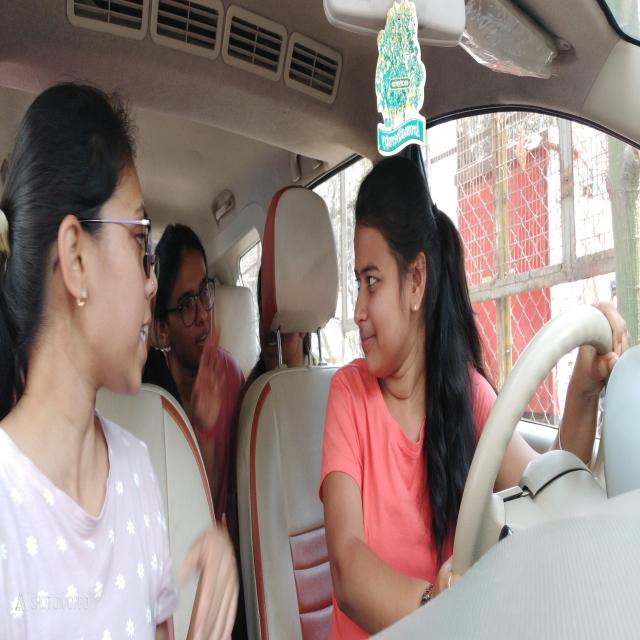LeftRight: (349, 152, 444, 398)
person: (0, 72, 160, 432), (156, 205, 217, 363)
